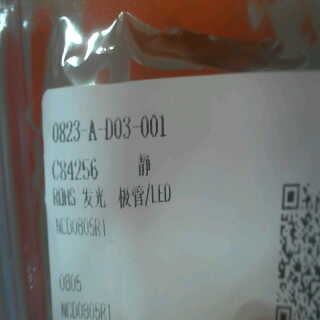LED: (79, 182, 181, 207)
